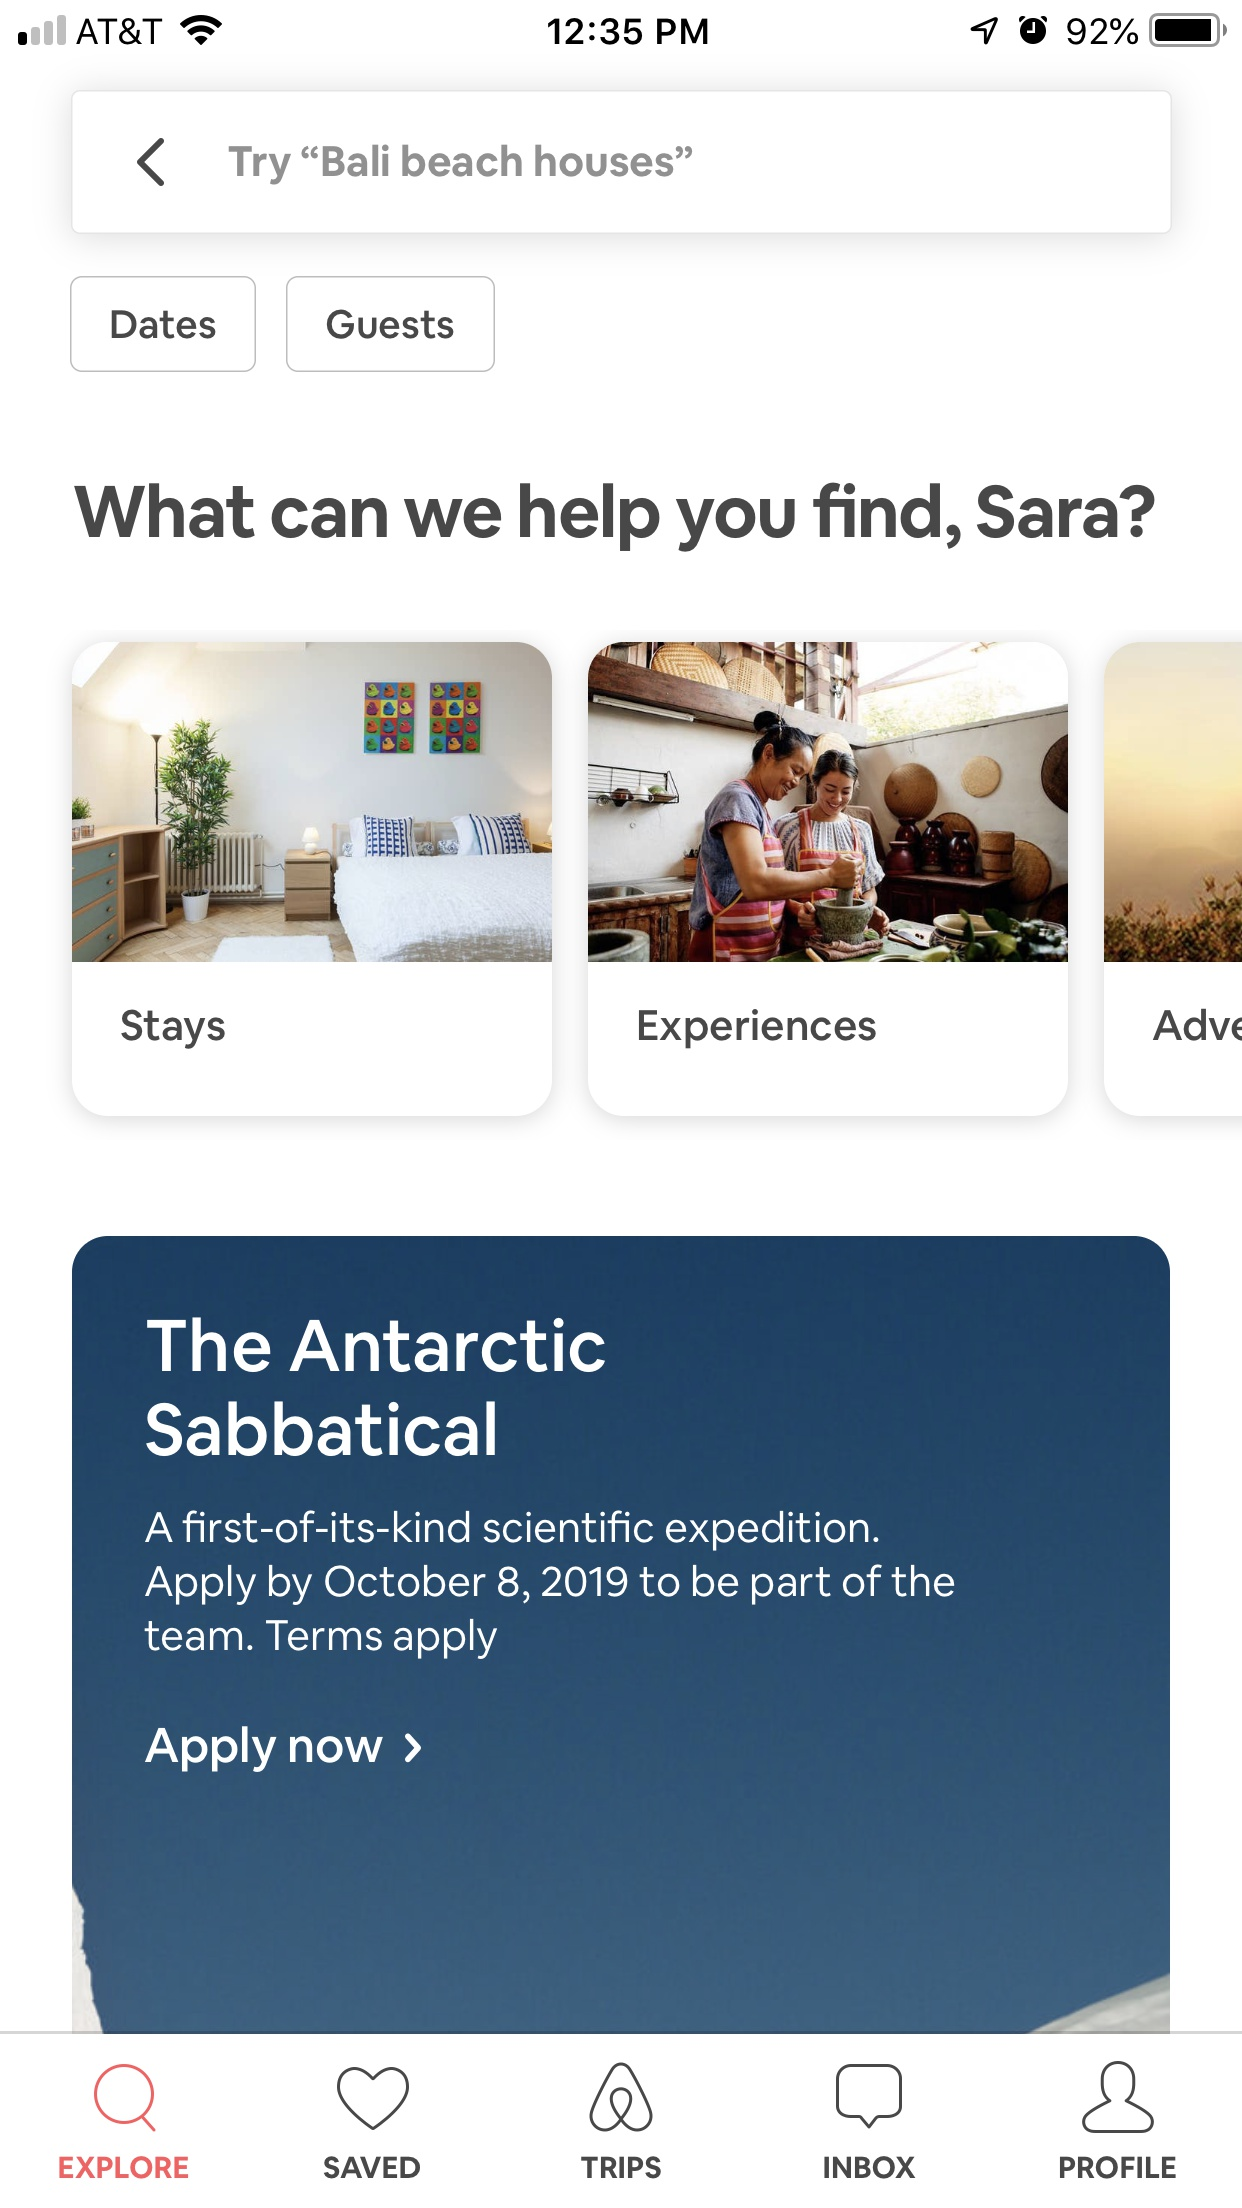EditText: (71, 89, 1174, 235)
Icon: (1081, 2059, 1156, 2134), (337, 2065, 411, 2131), (94, 2062, 158, 2134), (836, 2062, 902, 2129), (136, 138, 165, 187), (403, 1730, 423, 1764)
Image: (71, 641, 554, 963), (588, 641, 1069, 963), (1102, 641, 1242, 963), (588, 2061, 654, 2134)
Text: (143, 1509, 955, 1661), (73, 482, 1156, 554), (146, 1316, 607, 1457), (229, 146, 693, 187), (146, 1724, 385, 1773), (638, 1008, 877, 1049), (121, 1008, 227, 1049), (59, 2153, 190, 2179), (1059, 2155, 1177, 2181), (1153, 1008, 1242, 1042), (325, 2155, 422, 2179), (823, 2155, 916, 2179), (579, 2155, 663, 2181)
TextButton: (287, 276, 496, 373), (70, 276, 256, 373)
UpperTaskBar: (2, 2, 1242, 49)
